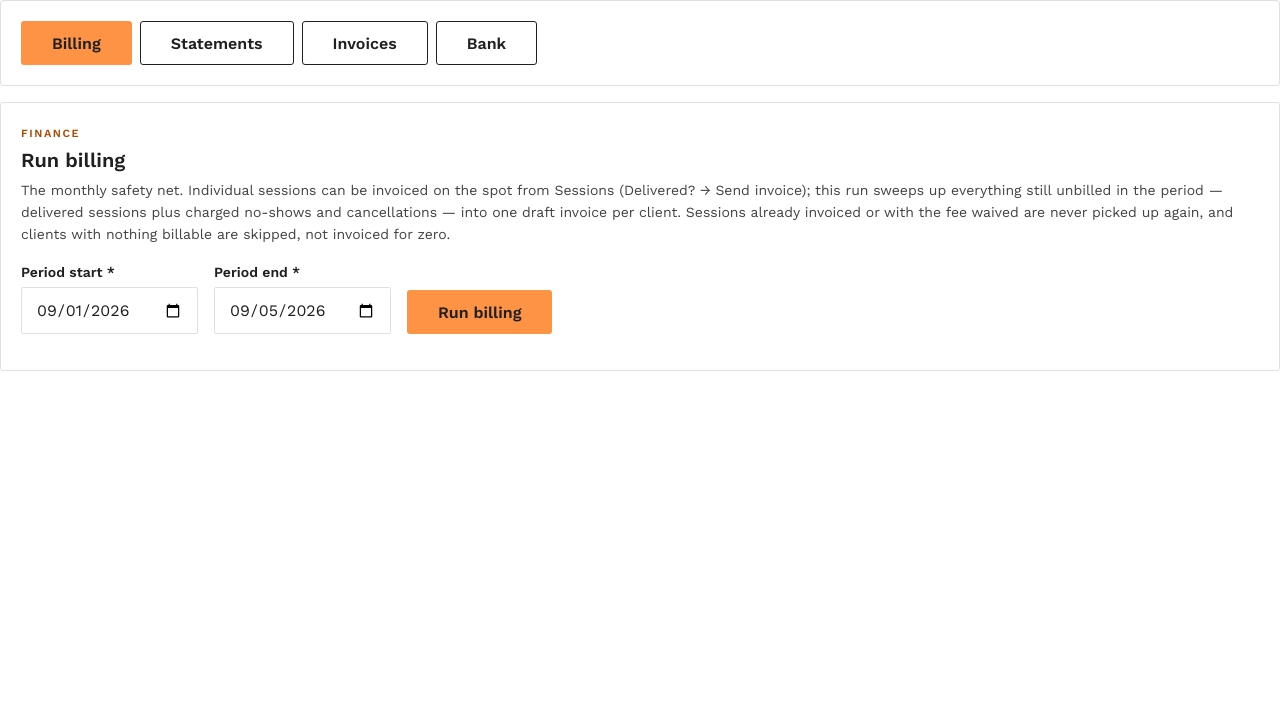
it: Statements › an admin sees the client statement section plus an educator picker
Expected: the button "Run billing" is shown, [407,290,552,334]
Click the button "Statements".
click(217, 43)  # box [140,21,294,65]
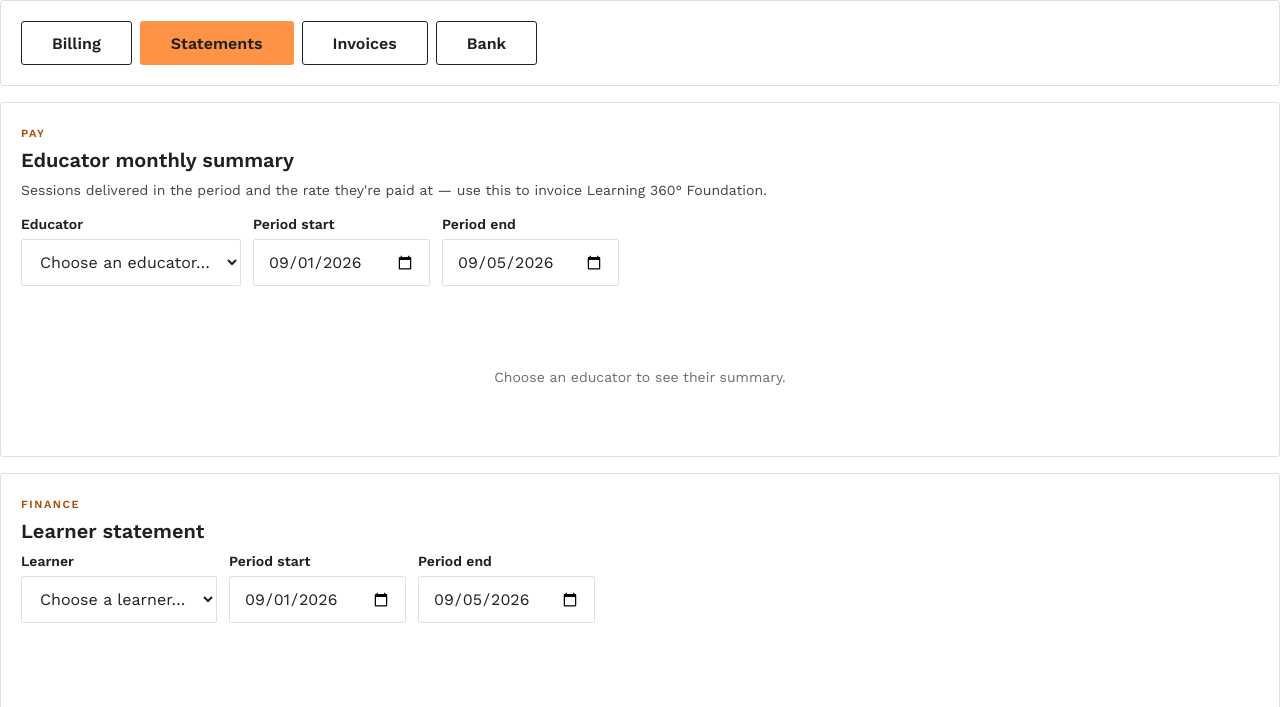
Expected: the heading "Learner statement" is shown, [21,519,204,543]
